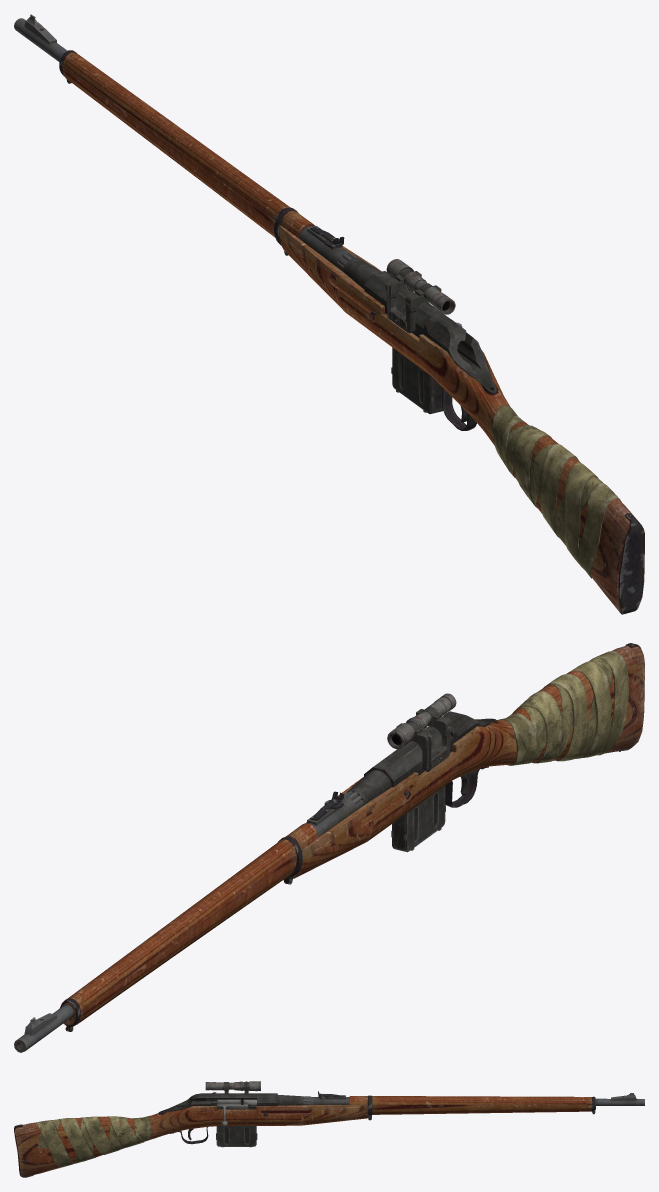
File: n_cecchino.glb
3 renders of one model, top to bottom at view 1: azimuth 30°, elevation 25°; view 2: azimuth 150°, elevation 25°; view 3: azimuth 270°, elevation 25°, orthographic. The views are drawn at different scales.
Visible parts, largest first — view 1: bolt_action_rifle_7_62, bolt_action_rifle_7_62_wrap, bolt_action_rifle_7_62_scope; view 2: bolt_action_rifle_7_62, bolt_action_rifle_7_62_wrap, bolt_action_rifle_7_62_scope; view 3: bolt_action_rifle_7_62, bolt_action_rifle_7_62_wrap, bolt_action_rifle_7_62_scope, bolt_action_rifle_7_62_bolt_a.
Boxes of the visible parts, x1,y1,x2,y2 form: bolt_action_rifle_7_62: [14, 14, 644, 614]; bolt_action_rifle_7_62_wrap: [492, 405, 621, 578]; bolt_action_rifle_7_62_scope: [385, 259, 455, 333]; bolt_action_rifle_7_62: [14, 643, 644, 1052]; bolt_action_rifle_7_62_wrap: [498, 651, 628, 765]; bolt_action_rifle_7_62_scope: [387, 693, 456, 771]; bolt_action_rifle_7_62: [14, 1091, 644, 1177]; bolt_action_rifle_7_62_wrap: [36, 1115, 150, 1168]; bolt_action_rifle_7_62_scope: [205, 1081, 260, 1093]; bolt_action_rifle_7_62_bolt_a: [205, 1099, 256, 1126].
Size of the model in its own units: 0.0665 by 0.2045 by 1.23.
3 materials, 3 textured.
